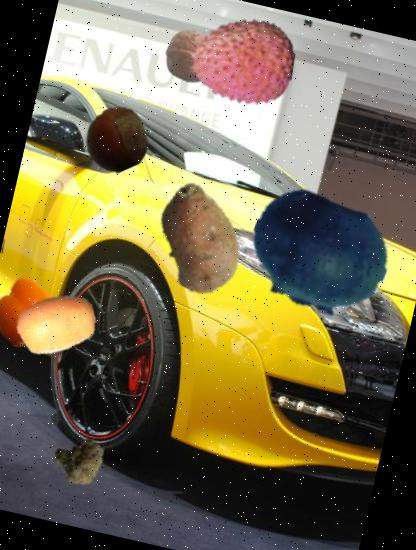Apricot: (222, 30, 292, 100)
Cauliflower: (47, 430, 108, 490)
Huckleberry: (235, 170, 402, 338)
Kumquats: (8, 276, 104, 372)
Lychee: (180, 0, 304, 123)
Nut: (78, 102, 154, 178)
Pepper: (0, 272, 70, 356)
Potato: (131, 170, 268, 308)
Walnut: (160, 24, 224, 88)
